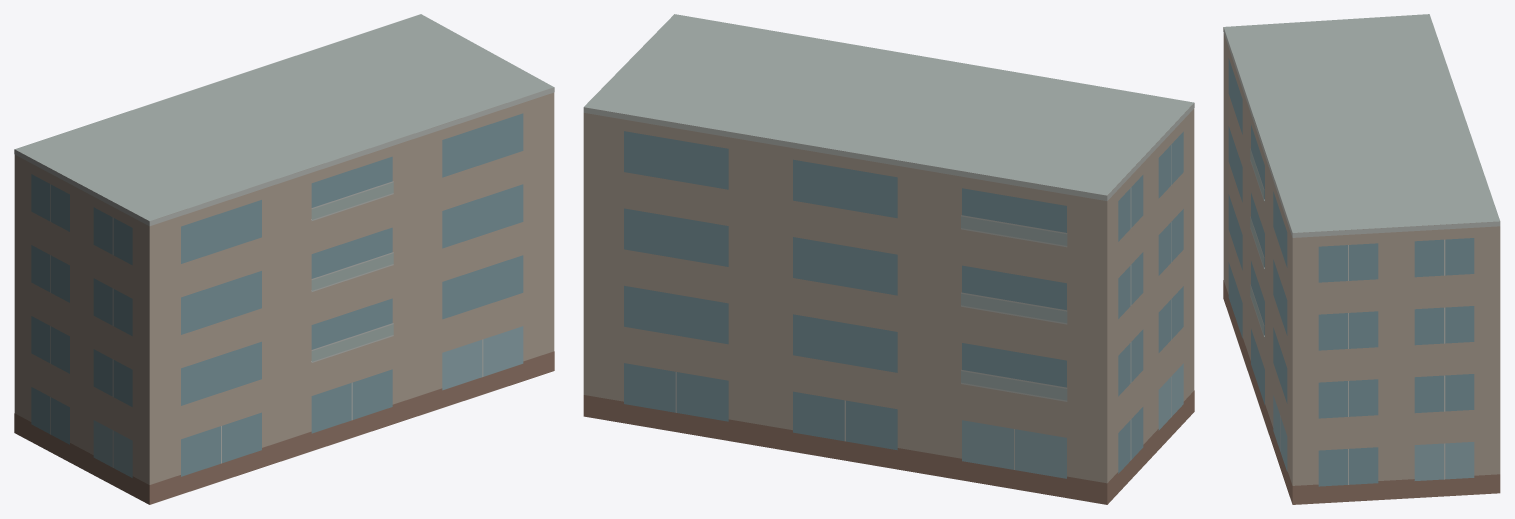
File: survey-upis-32705913.glb
3 renders of one model, left to right at view 1: azimuth 30°, elevation 25°; view 2: azimuth 150°, elevation 25°; view 3: azimuth 270°, elevation 25°, orthographic. The views are drawn at different scales.
Visible parts, largest first — view 1: survey-upis-32705913.tmp; view 2: survey-upis-32705913.tmp; view 3: survey-upis-32705913.tmp.
Part boxes in pixels (x1,y1,x2,y2): survey-upis-32705913.tmp: (14, 14, 554, 504); survey-upis-32705913.tmp: (583, 14, 1194, 504); survey-upis-32705913.tmp: (1223, 14, 1500, 504).
Size of the model in its own units: 23.34 by 13.5 by 12.47.
